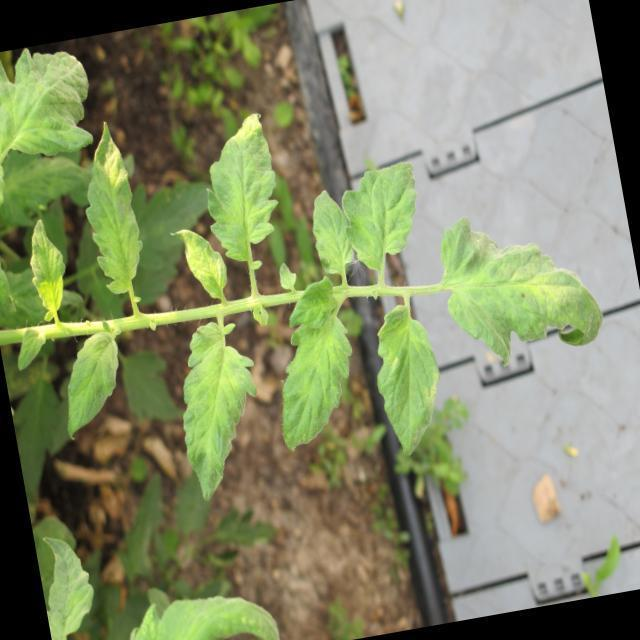Mosaic Virus: (431, 194, 618, 383), (154, 312, 278, 498), (254, 278, 364, 455), (364, 293, 453, 458), (202, 110, 292, 269), (72, 120, 152, 291), (340, 152, 434, 274), (46, 330, 138, 438), (20, 207, 76, 329), (305, 179, 351, 272), (174, 225, 228, 304)
